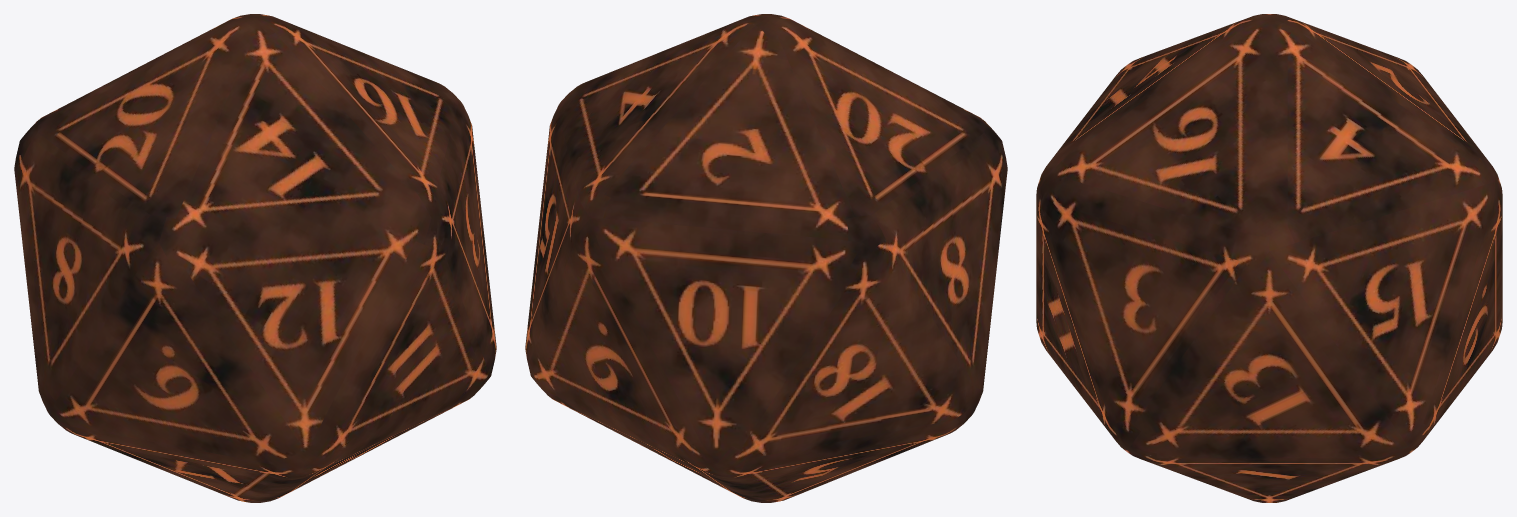
Rendered from daedric-d20.glb.
3 renders of one model, left to right at view 1: azimuth 30°, elevation 25°; view 2: azimuth 150°, elevation 25°; view 3: azimuth 270°, elevation 25°, orthographic.
Parts seen in each view (by area): view 1: daedric_d20; view 2: daedric_d20; view 3: daedric_d20.
Boxes of the visible parts, x1,y1,x2,y2 form: daedric_d20: (14, 14, 496, 502); daedric_d20: (525, 14, 1007, 502); daedric_d20: (1036, 14, 1502, 502).
Bounding box in the file's own units: 1.74 × 1.9 × 1.67.
1 material, 1 textured.
